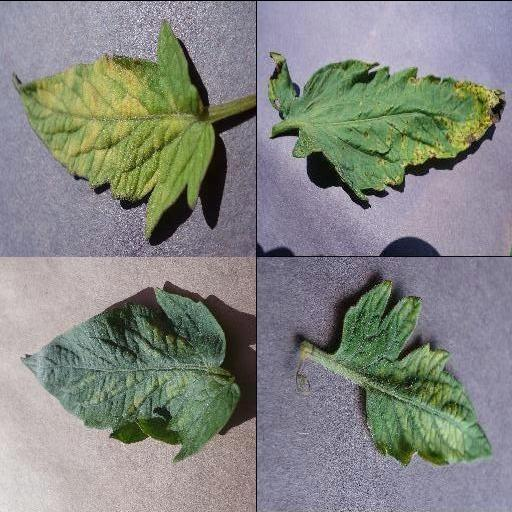Leaf Mold: (12, 18, 218, 238)
Mosaic Virus: (337, 281, 497, 467)
Septoria: (266, 53, 506, 200)
Spider Mites: (21, 288, 239, 462)
